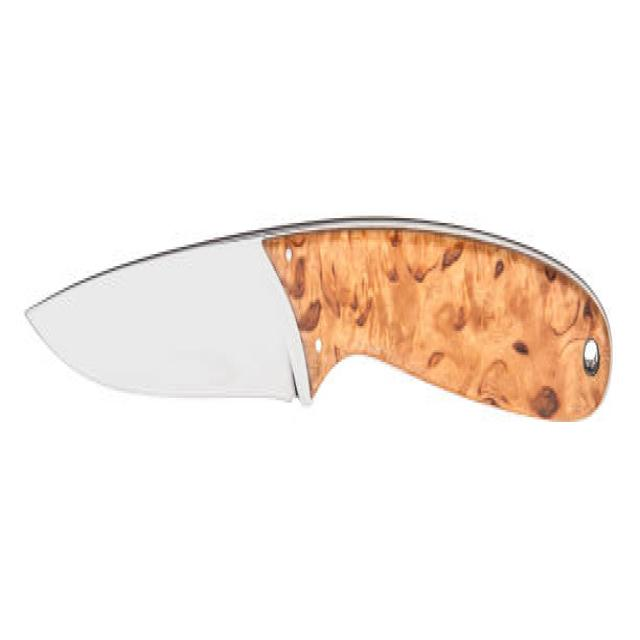knife: (19, 198, 619, 458)
